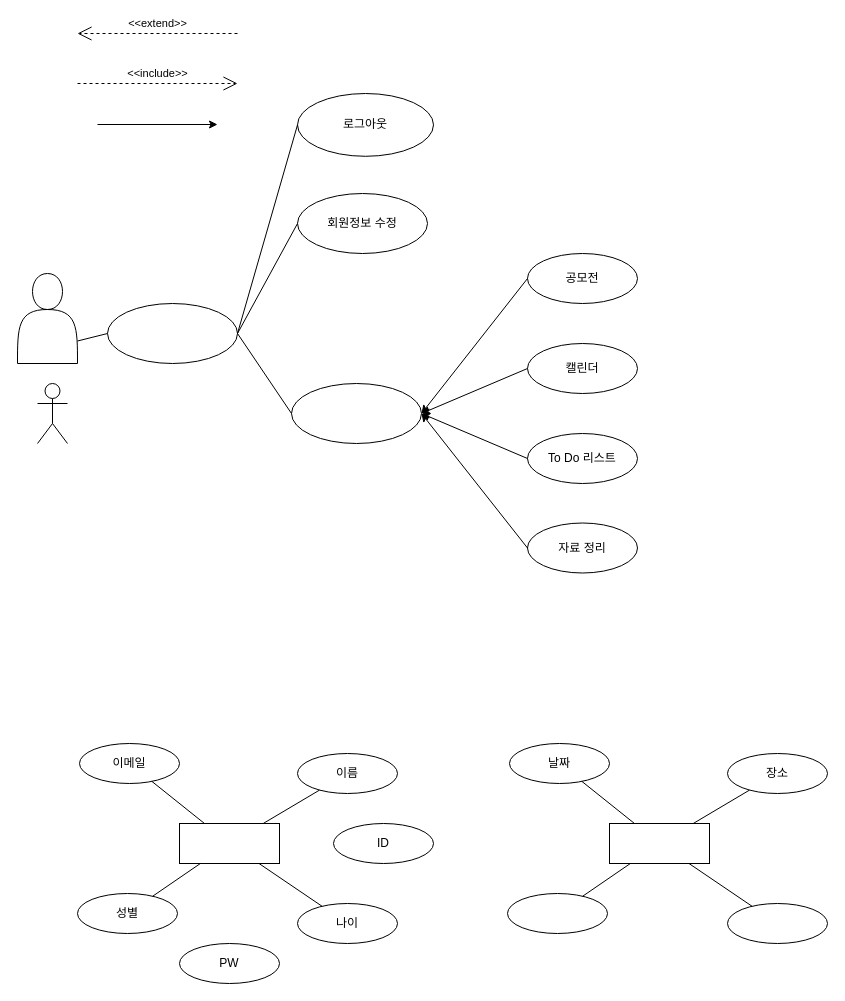
Image size: 845x1001. Some labels were removed from this diagram. The centre of each missing label's shape, as x and y in pixels:
"Actor" goes at pixel 52 413.
"A공모전" goes at pixel 659 843.
"로그인" goes at pixel 172 333.
"메인페이지" goes at pixel 356 413.
"회원" goes at pixel 229 843.
